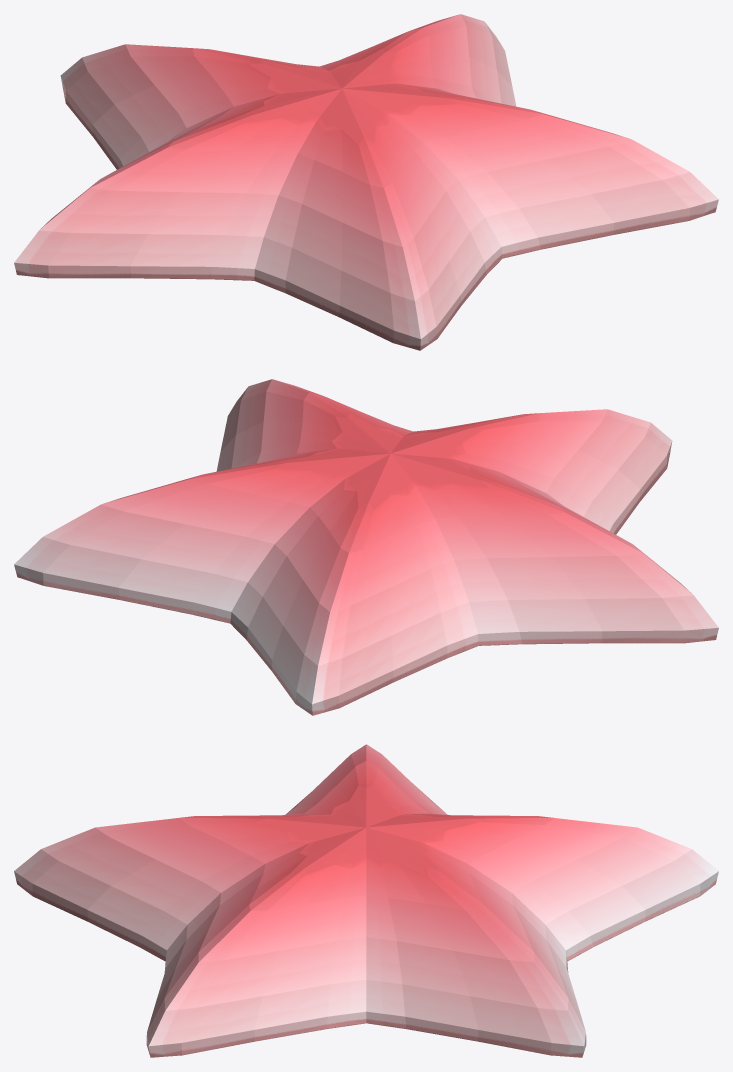
File: coral8.glb
3 views of the same model, one above another, from view 1: azimuth 30°, elevation 25°; view 2: azimuth 150°, elevation 25°; view 3: azimuth 270°, elevation 25° (orthographic). The views are drawn at different scales.
Visible parts, largest first — view 1: Starfish01; view 2: Starfish01; view 3: Starfish01.
Boxes of the visible parts, bbox=[...] form: Starfish01: bbox=[14, 14, 718, 350]; Starfish01: bbox=[14, 379, 718, 715]; Starfish01: bbox=[14, 744, 718, 1057].
Bounding box in the file's own units: 0.8119 × 0.1468 × 0.8537.
Materials: 1 (1 with a texture image).
